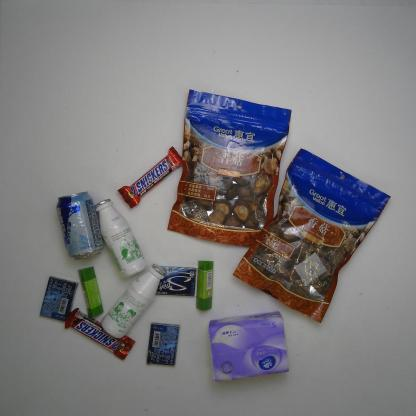Alcohol: (52, 188, 104, 263)
Chocolate: (57, 302, 137, 363), (114, 144, 186, 209)
Dried Food: (230, 147, 392, 325), (165, 87, 292, 249)
Gum: (36, 275, 78, 325), (144, 319, 183, 369), (152, 264, 197, 300)
Milk: (100, 262, 170, 340), (90, 195, 148, 280)
Stationery: (74, 263, 107, 320), (194, 258, 218, 312)
Tissue: (205, 310, 293, 383)
